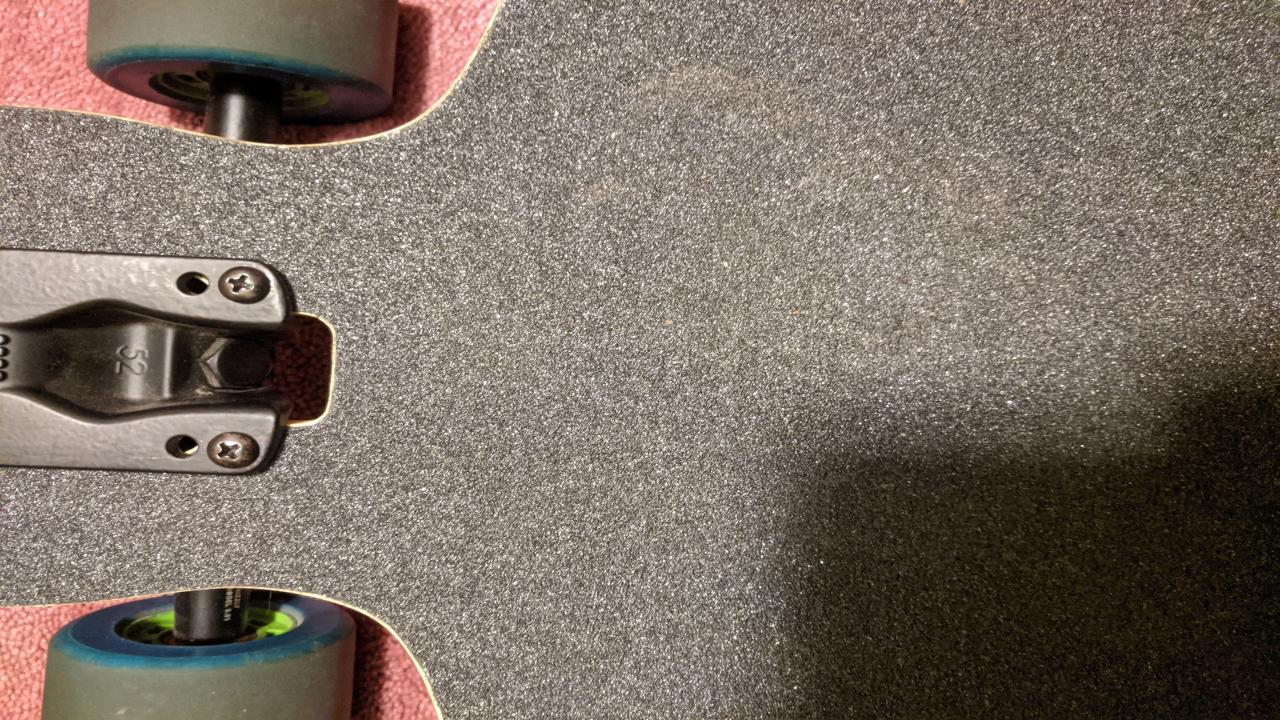CRS: (217, 264, 268, 305), (206, 432, 253, 467)
